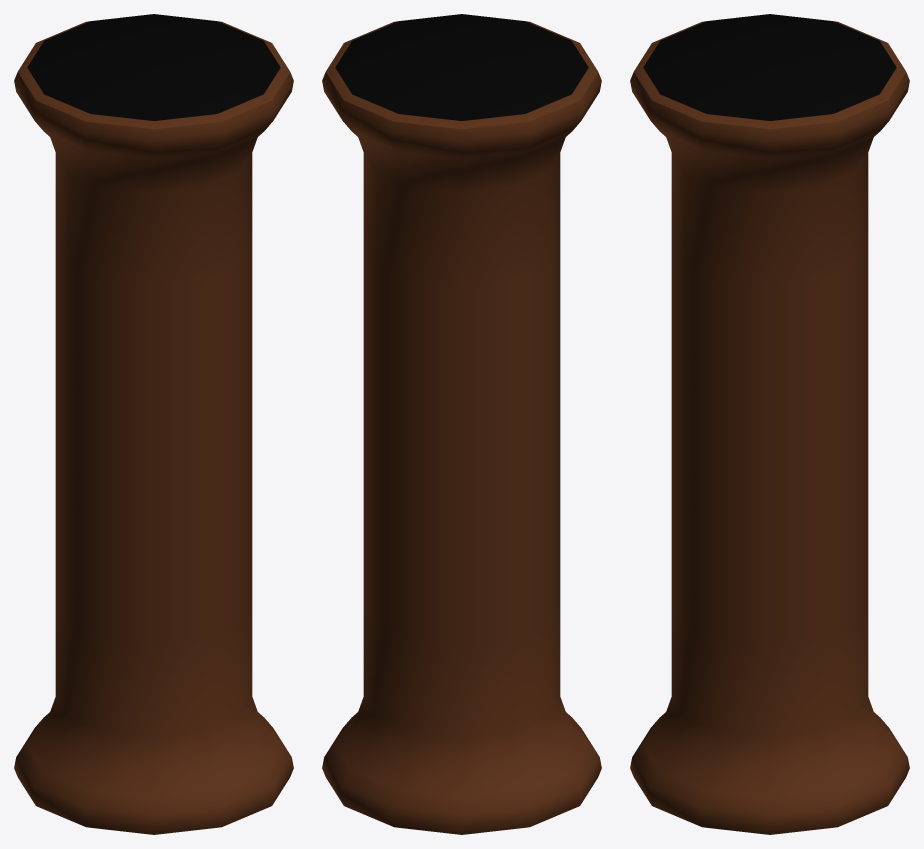
File: Pipe_2m.fbx
3 views of the same model, side by side, from view 1: azimuth 30°, elevation 25°; view 2: azimuth 150°, elevation 25°; view 3: azimuth 270°, elevation 25° (orthographic).
Parts seen in each view (by area): view 1: Pipe_2m; view 2: Pipe_2m; view 3: Pipe_2m.
Part boxes in pixels (<box>): Pipe_2m: <box>14,14,293,834</box>; Pipe_2m: <box>322,14,601,834</box>; Pipe_2m: <box>630,14,909,834</box>.
Bounding box in the file's own units: 71.06 × 200 × 71.06.
